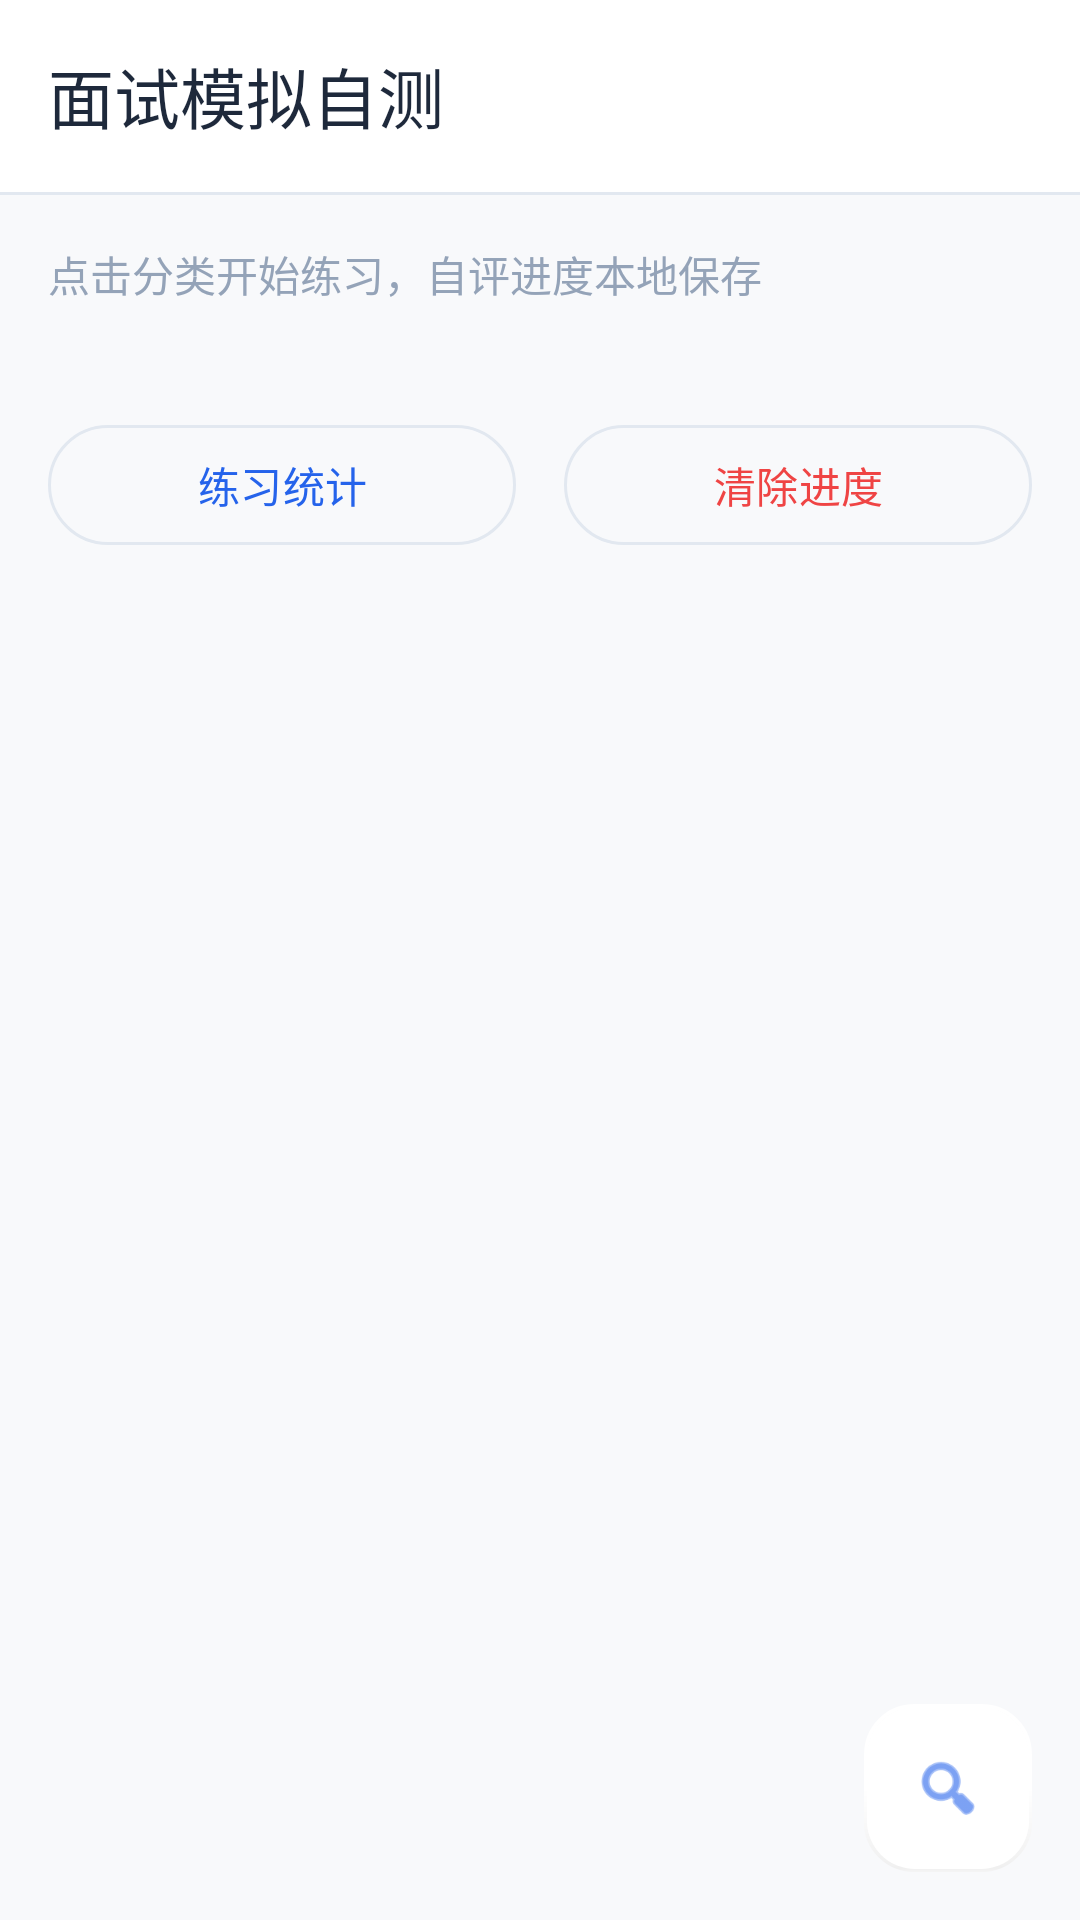

Where icons sit on this 1080w x 1920h app screen, as (x1, y1, x2, y2):
速查: (921, 1762, 975, 1815)
